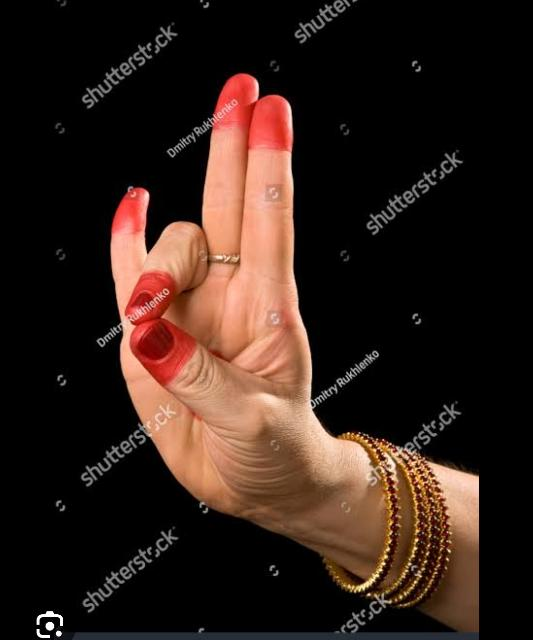mayur: (106, 77, 453, 610), (75, 71, 389, 584)
